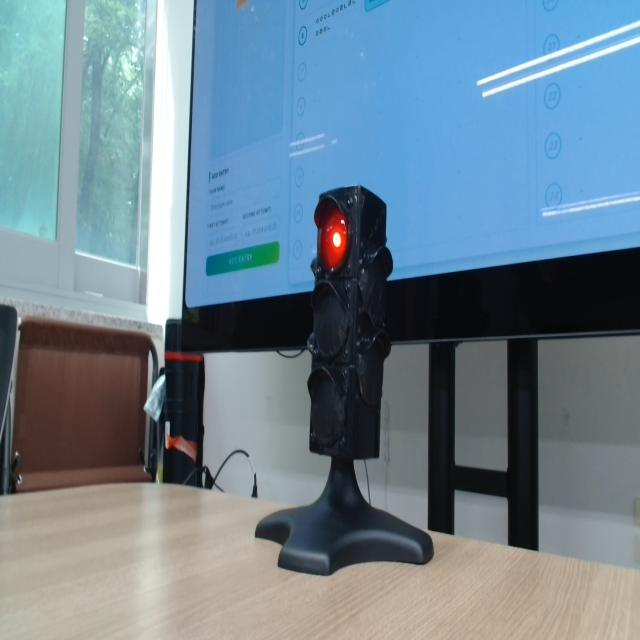red_light: (318, 206, 348, 270)
